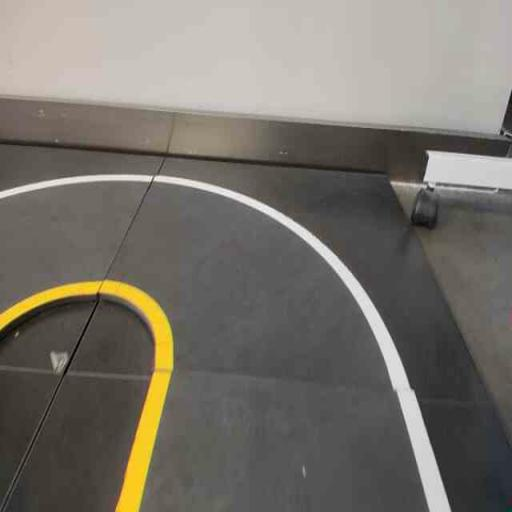left: (72, 160, 416, 389)
